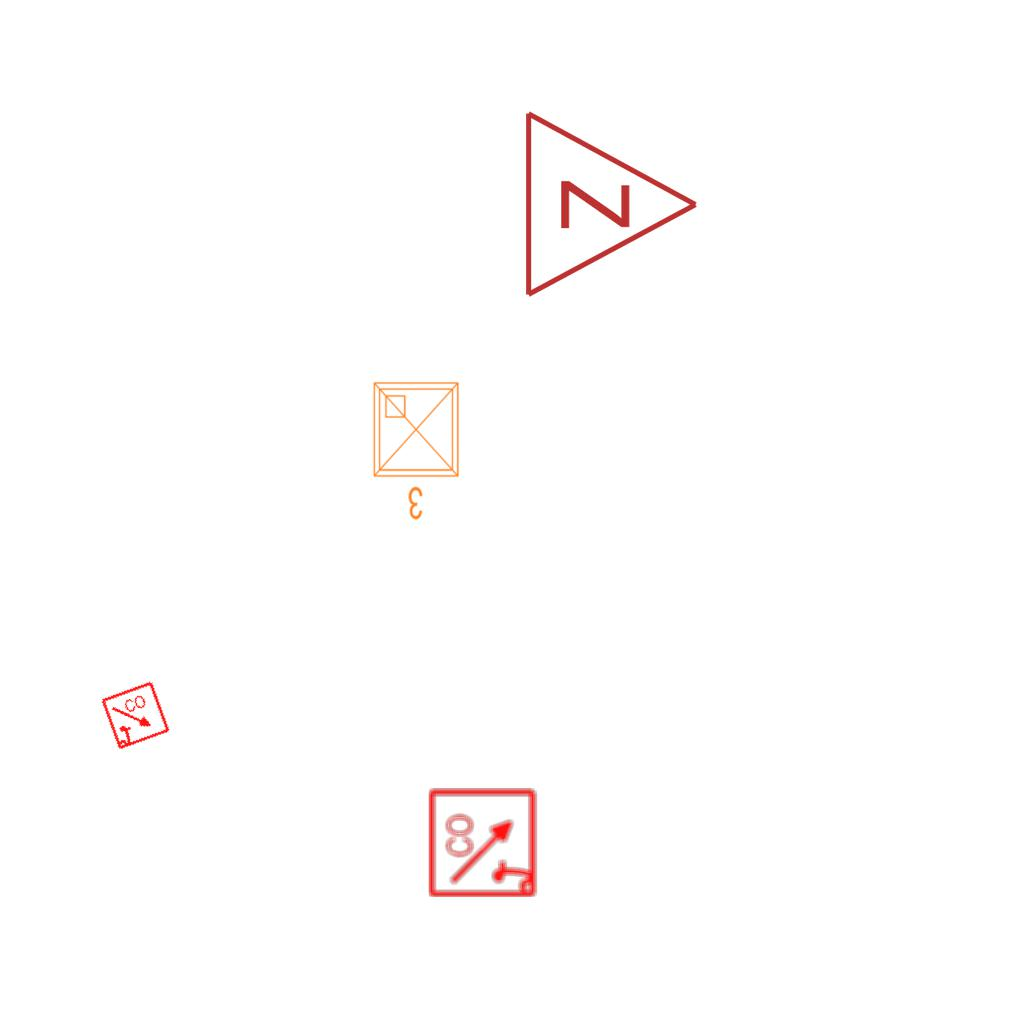Einbaudownlights_LED_Konferenzraeume: (366, 375, 470, 525)
ROA_Rauchmelder_optisch_mit_Signalgeber_(Sockelsirene): (427, 786, 540, 899), (100, 680, 172, 752)
Zimmersignalleuchte: (511, 104, 711, 300)
